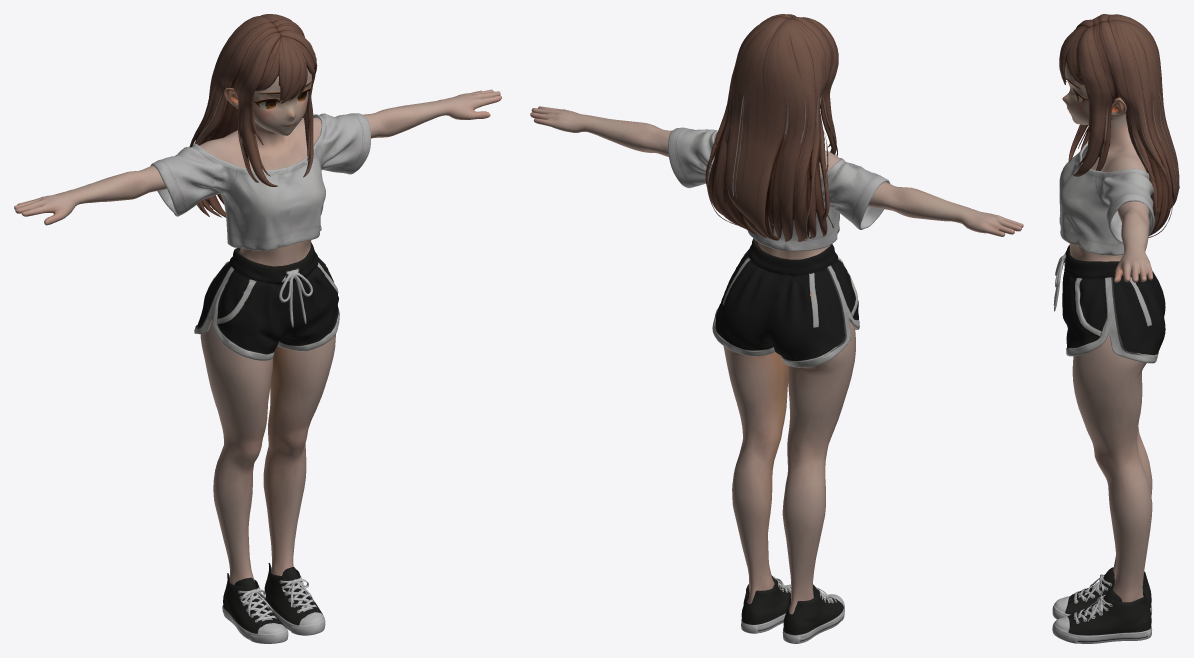
The model's file is placeholder-cc-by.glb.
3 views of the same model, side by side, from view 1: azimuth 30°, elevation 25°; view 2: azimuth 150°, elevation 25°; view 3: azimuth 270°, elevation 25° (orthographic).
Visible parts, largest first — view 1: Object_10, Object_4, Object_6, Object_8, Object_13, Object_11; view 2: Object_10, Object_8, Object_6, Object_4, Object_13; view 3: Object_10, Object_8, Object_6, Object_4, Object_13, Object_11.
Part boxes in pixels (bbox=[...]): Object_10: bbox=[14, 89, 501, 584]; Object_4: bbox=[150, 113, 370, 251]; Object_6: bbox=[194, 242, 339, 360]; Object_8: bbox=[189, 14, 317, 217]; Object_13: bbox=[222, 563, 325, 643]; Object_11: bbox=[224, 68, 312, 135]; Object_10: bbox=[530, 106, 1023, 614]; Object_8: bbox=[705, 14, 838, 241]; Object_6: bbox=[712, 238, 859, 367]; Object_4: bbox=[668, 127, 890, 251]; Object_13: bbox=[741, 575, 844, 643]; Object_10: bbox=[1069, 125, 1152, 602]; Object_8: bbox=[1059, 14, 1179, 237]; Object_6: bbox=[1053, 245, 1165, 363]; Object_4: bbox=[1059, 142, 1154, 255]; Object_13: bbox=[1052, 567, 1152, 643]; Object_11: bbox=[1062, 62, 1127, 129].
Bounding box in the file's own units: 1.47 × 1.74 × 0.33.
Materials: 6 (6 with a texture image).
